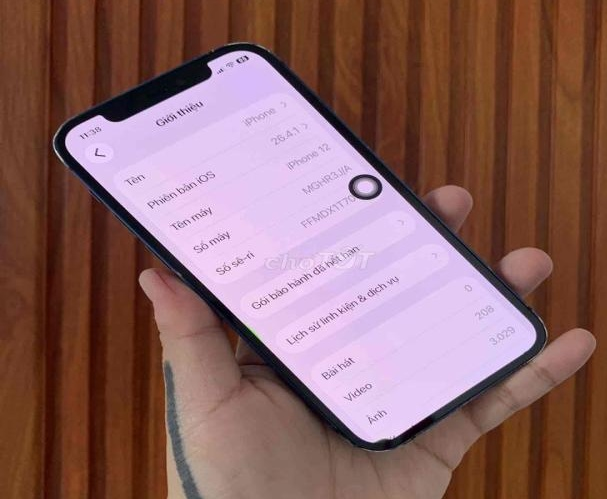scratch: (201, 39, 307, 67)
screen_defect: (349, 426, 410, 450)
